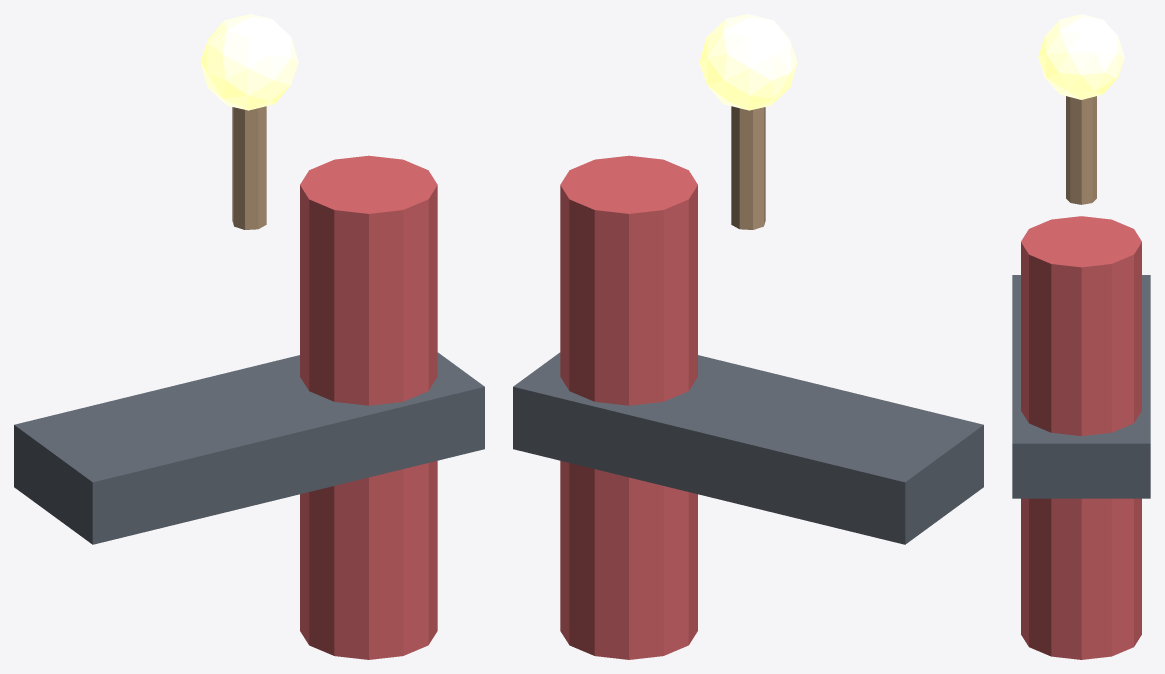
The model's file is dinamita.glb.
3 views of the same model, side by side, from view 1: azimuth 30°, elevation 25°; view 2: azimuth 150°, elevation 25°; view 3: azimuth 270°, elevation 25° (orthographic). The views are drawn at different scales.
Parts seen in each view (by area): view 1: cartucho, cinta, chispa, mecha; view 2: cartucho, cinta, chispa, mecha; view 3: cartucho, cinta, chispa, mecha.
Boxes of the visible parts, x1=… form: cartucho: x1=300, y1=155, x2=437, y2=659; cinta: x1=14, y1=352, x2=484, y2=544; chispa: x1=200, y1=14, x2=298, y2=110; mecha: x1=232, y1=106, x2=266, y2=229; cartucho: x1=560, y1=155, x2=697, y2=659; cinta: x1=513, y1=352, x2=983, y2=544; chispa: x1=699, y1=14, x2=797, y2=110; mecha: x1=731, y1=106, x2=765, y2=229; cartucho: x1=1021, y1=216, x2=1141, y2=659; cinta: x1=1012, y1=275, x2=1150, y2=498; chispa: x1=1038, y1=14, x2=1124, y2=99; mecha: x1=1066, y1=96, x2=1096, y2=204.
Size of the model in its own units: 0.575 by 0.9 by 0.2.
